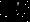person: (15, 4, 22, 16), (4, 3, 10, 14)
